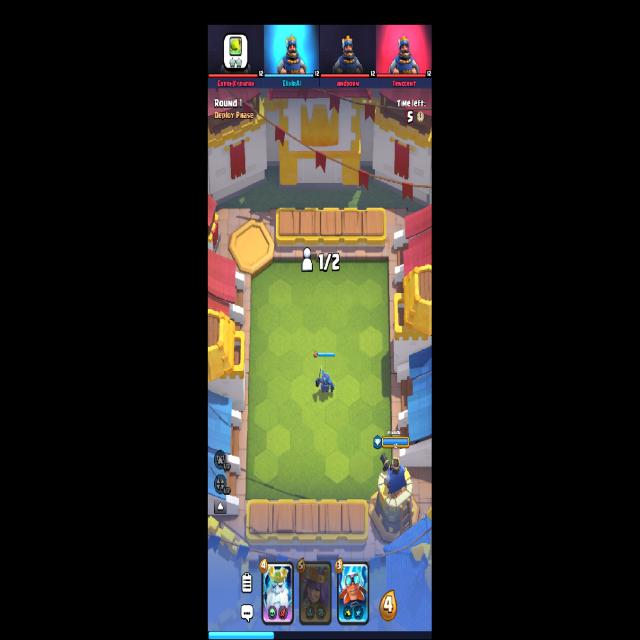card_archer_queen: (298, 560, 332, 626)
card_electro_giant: (336, 561, 369, 624)
card_royal_ghost: (262, 562, 293, 624)
mini_pekka: (316, 366, 335, 400)
